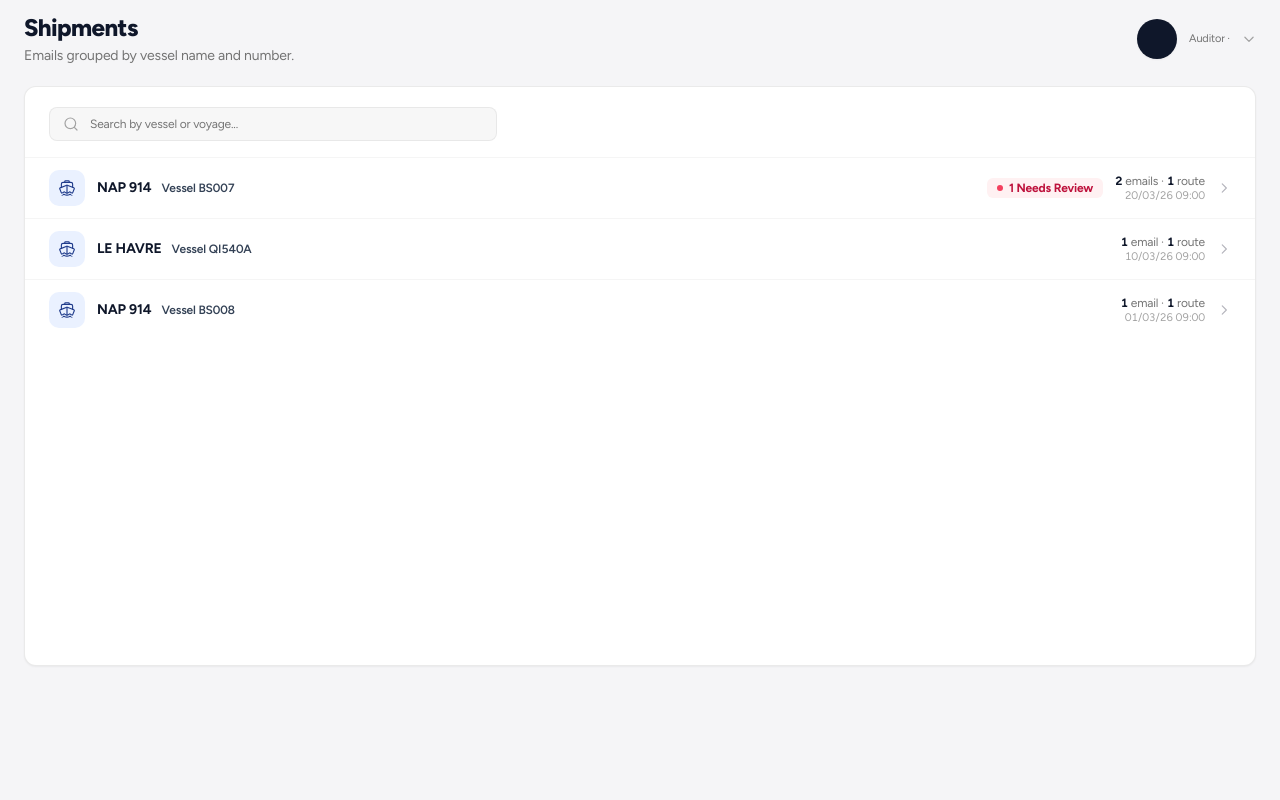
Test: Shipments › searches by vessel or voyage
The width and height of the screenshot is (1280, 800).
Type "qi540" into the field named "Search shipments" at (273, 124), box [49,107,497,141]
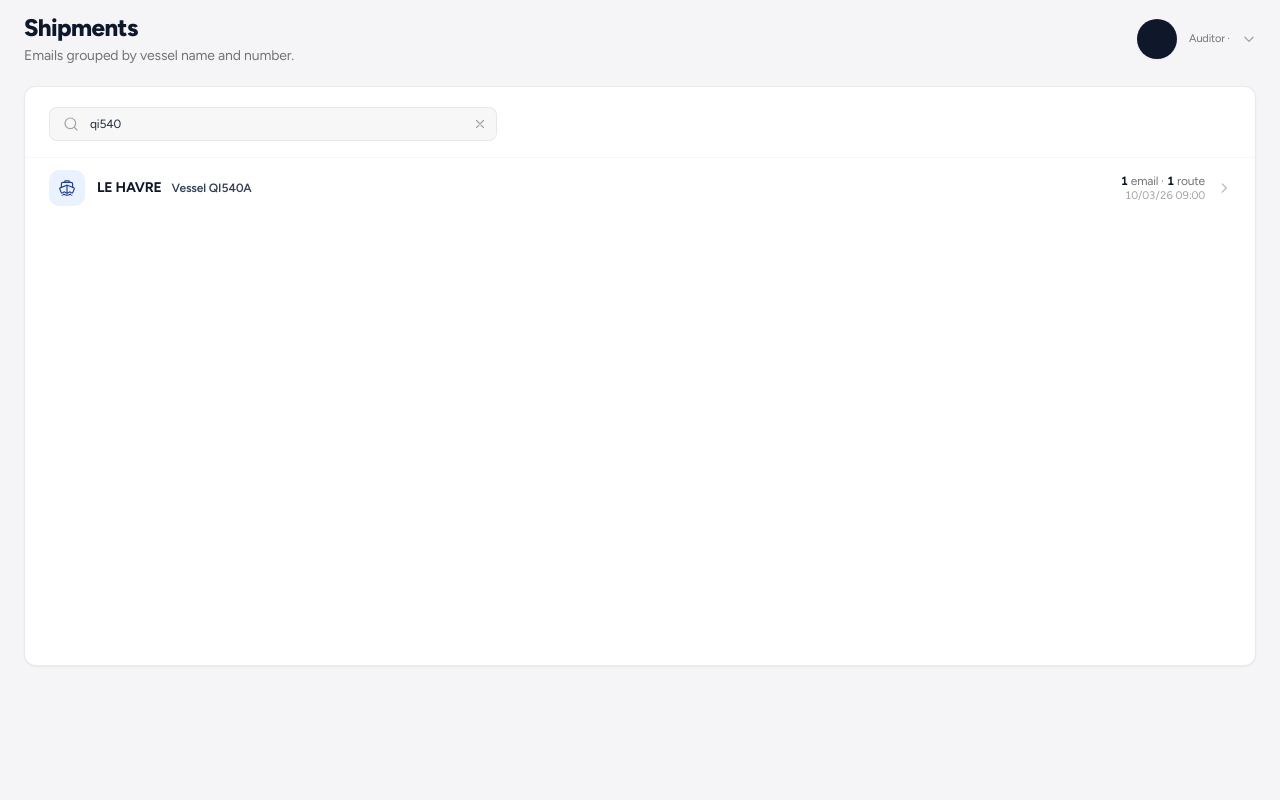
Replace the text in the field named "Search shipments" with "zzz" at (273, 124), box [49,107,497,141]
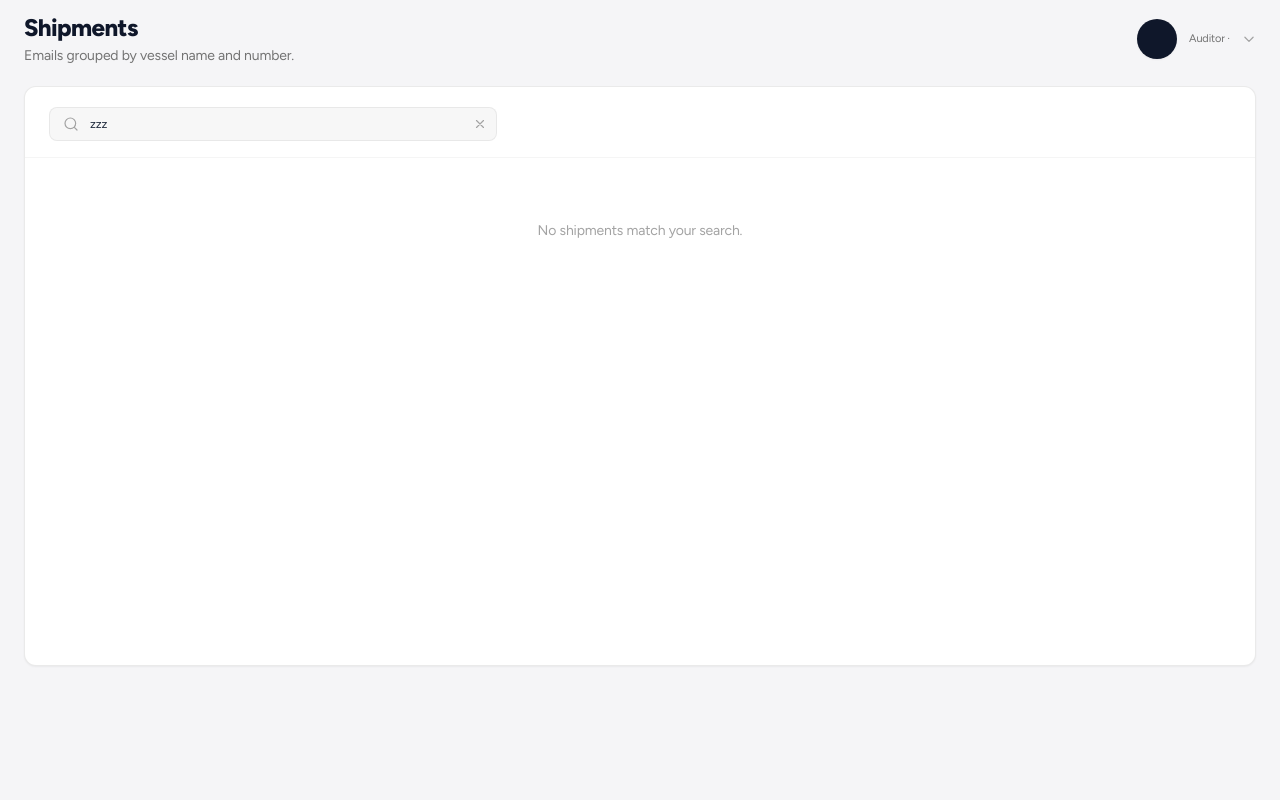
Expected: the list item "No shipments match your search." is shown, [538,222,742,239]
